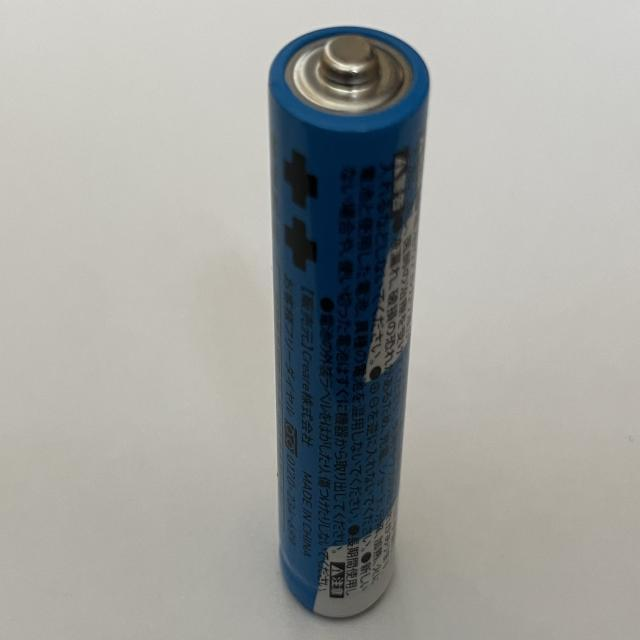hazardous waste: (262, 21, 432, 622)
